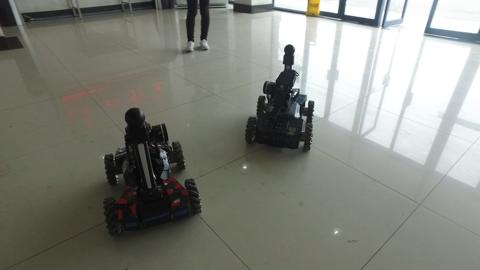chariot: (96, 104, 209, 240), (240, 41, 326, 152)
